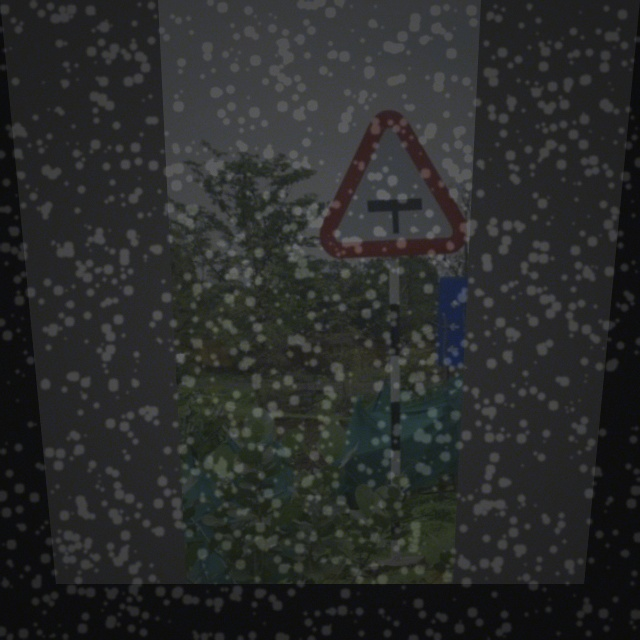T_Intersection: (327, 109, 466, 252)
